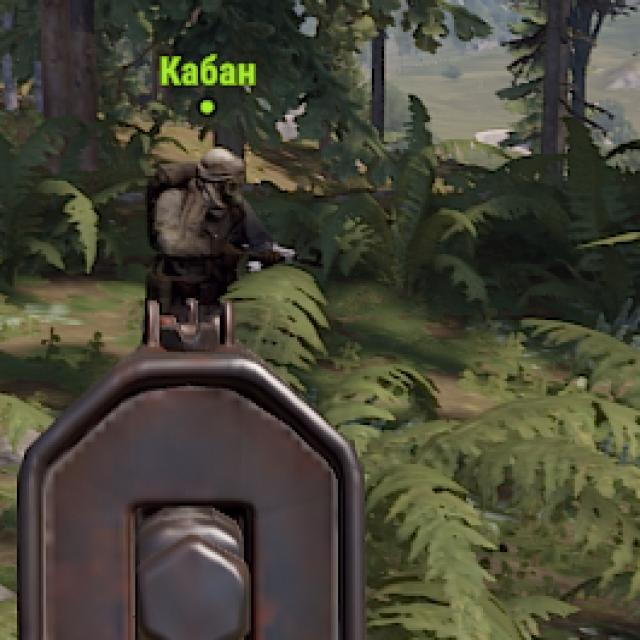Player: (142, 146, 260, 296)
